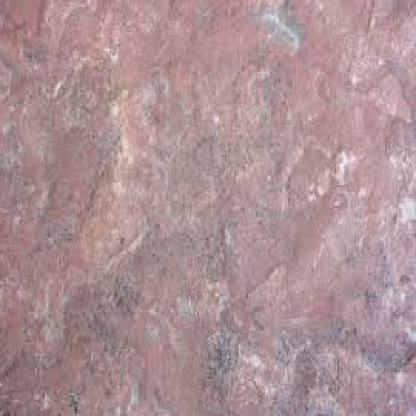Metamorphic_Marble: (1, 0, 414, 414)
